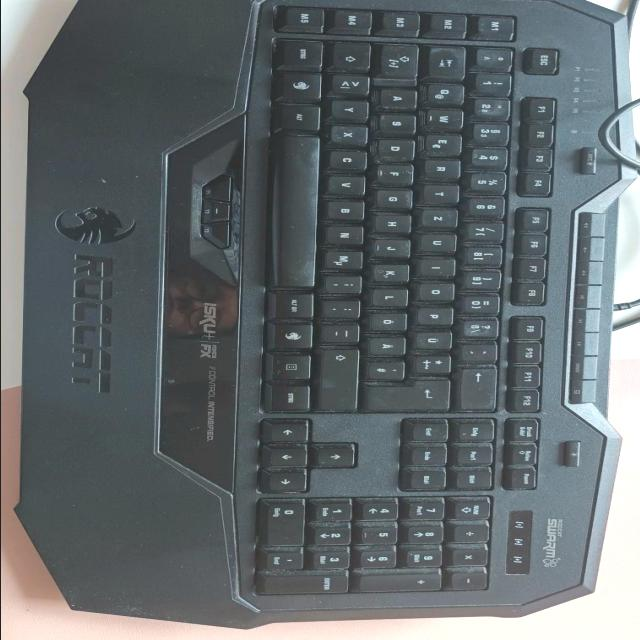0: (463, 293, 505, 314)
1: (475, 72, 517, 94)
2: (474, 96, 516, 118)
3: (474, 121, 514, 143)
4: (473, 147, 513, 167)
5: (471, 171, 511, 191)
6: (469, 196, 511, 216)
7: (468, 220, 510, 240)
8: (466, 244, 508, 264)
9: (466, 269, 506, 289)
a: (381, 88, 421, 108)
accent: (462, 342, 502, 362)
ae: (370, 336, 410, 355)
alt-left: (279, 103, 325, 129)
altgr-right: (276, 292, 318, 318)
b: (329, 199, 369, 219)
c: (331, 149, 371, 169)
caret: (478, 47, 518, 69)
comma: (328, 274, 368, 292)
d: (378, 137, 420, 159)
del: (463, 366, 502, 409)
e: (425, 132, 467, 154)
enter: (364, 378, 455, 410)
f: (379, 163, 419, 183)
g: (378, 188, 417, 207)
h: (377, 213, 416, 232)
hash: (368, 360, 410, 379)
i: (422, 257, 460, 276)
j: (376, 238, 415, 257)
k: (375, 262, 414, 281)
keyboard: (235, 1, 576, 609)
l: (373, 287, 413, 305)
less: (334, 73, 374, 93)
m: (326, 248, 368, 268)
minus: (323, 323, 365, 342)
n: (328, 224, 368, 244)
o: (421, 281, 460, 301)
oe: (372, 311, 412, 330)
p: (419, 306, 458, 324)
plus: (415, 353, 457, 372)
point: (325, 299, 365, 317)
q: (428, 81, 470, 103)
r: (426, 158, 466, 178)
s: (380, 113, 420, 132)
shift-left: (332, 41, 374, 69)
shift-lock: (379, 42, 423, 78)
shift-right: (322, 347, 364, 409)
space: (278, 133, 322, 288)
ss: (465, 317, 504, 337)
strg-left: (279, 38, 327, 68)
strg-right: (270, 382, 314, 410)
t: (426, 183, 465, 203)
tab: (428, 45, 470, 78)
u: (422, 232, 461, 251)
ue: (415, 329, 457, 348)
v: (331, 174, 371, 194)
w: (427, 107, 469, 127)
x: (332, 124, 374, 144)
y: (333, 99, 373, 119)
z: (424, 208, 463, 227)
